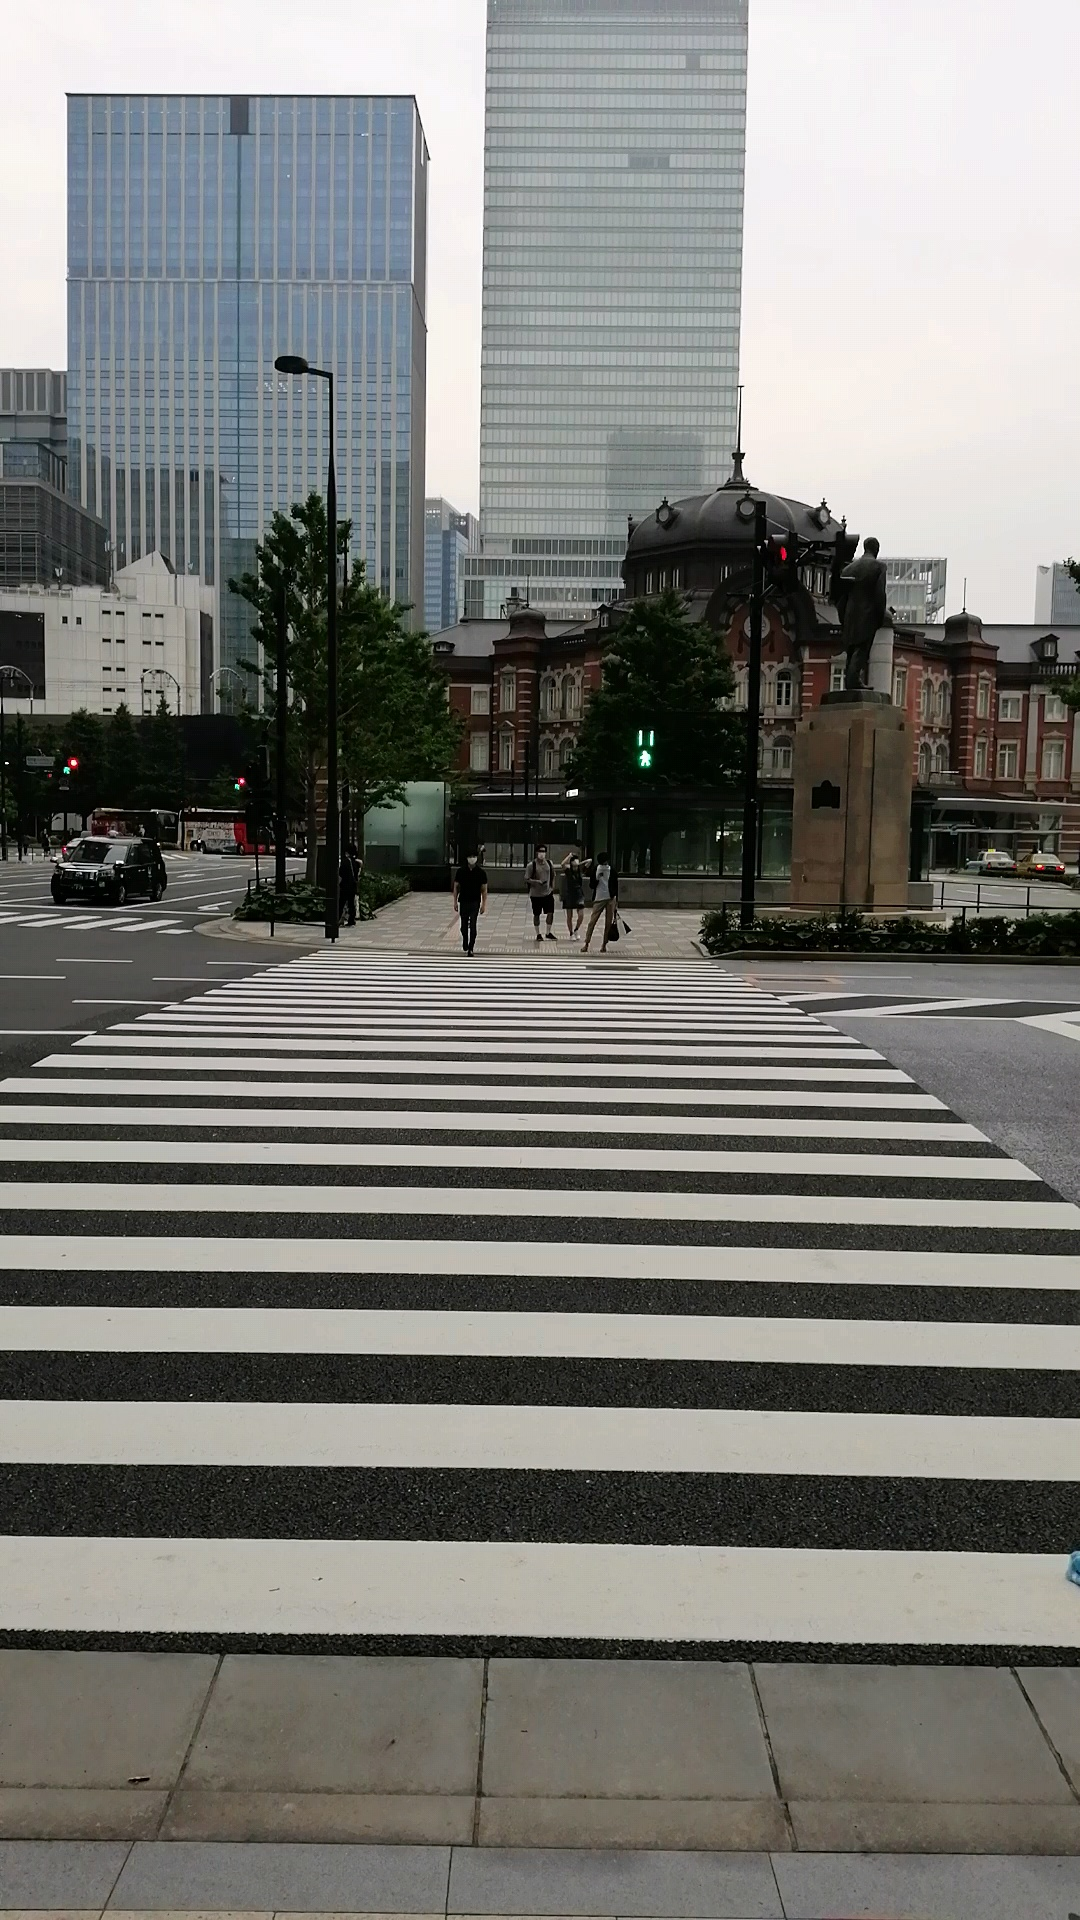green: (628, 720, 659, 774)
